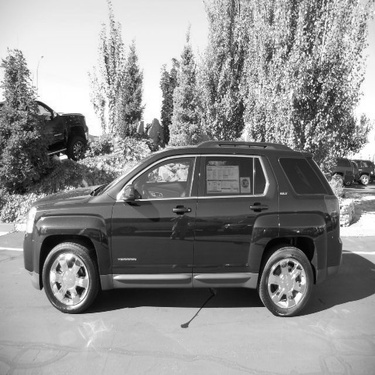car: (13, 131, 349, 325), (6, 88, 89, 177), (312, 144, 361, 190), (336, 150, 374, 193)
